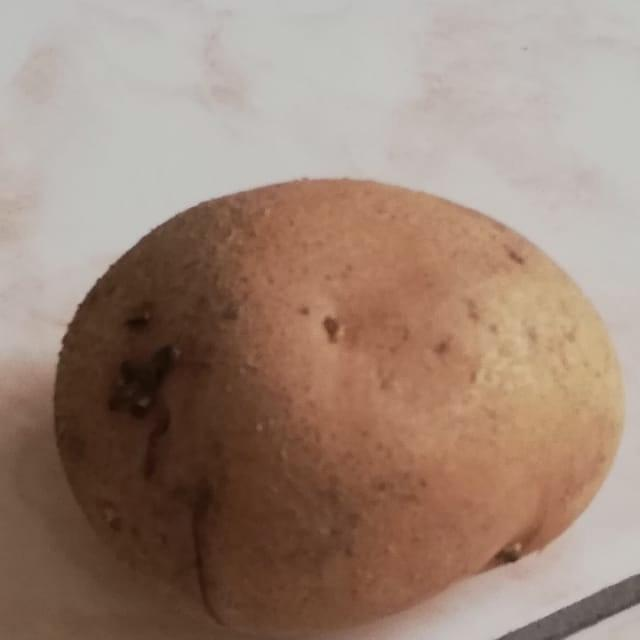potato: (38, 162, 638, 640)
